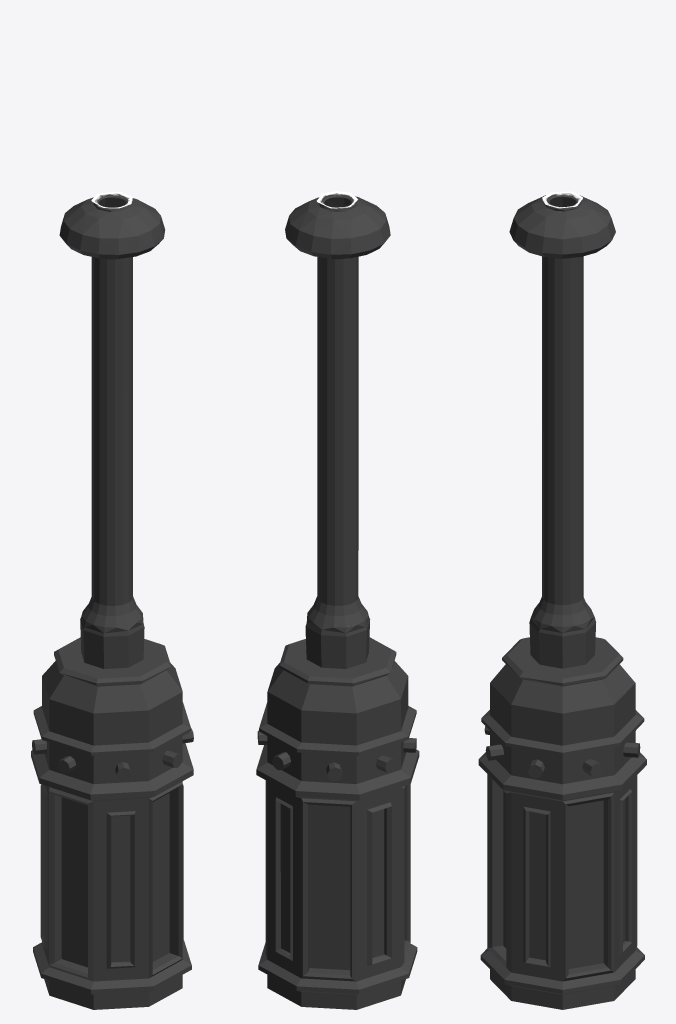
Rendered from Poste.fbx.
3 renders of one model, left to right at view 1: azimuth 30°, elevation 25°; view 2: azimuth 150°, elevation 25°; view 3: azimuth 270°, elevation 25°, orthographic.
Parts seen in each view (by area): view 1: Poste; view 2: Poste; view 3: Poste.
Part boxes in pixels (x1,y1,x2,y2): Poste: (31,191,193,1009); Poste: (256,191,419,1009); Poste: (478,191,646,1009).
Bounding box in the file's own units: 271 × 1449 × 271.
